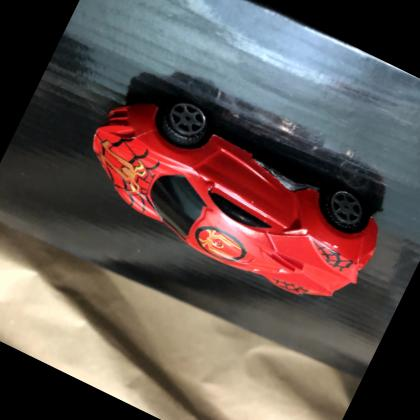Car: (92, 98, 379, 295)
